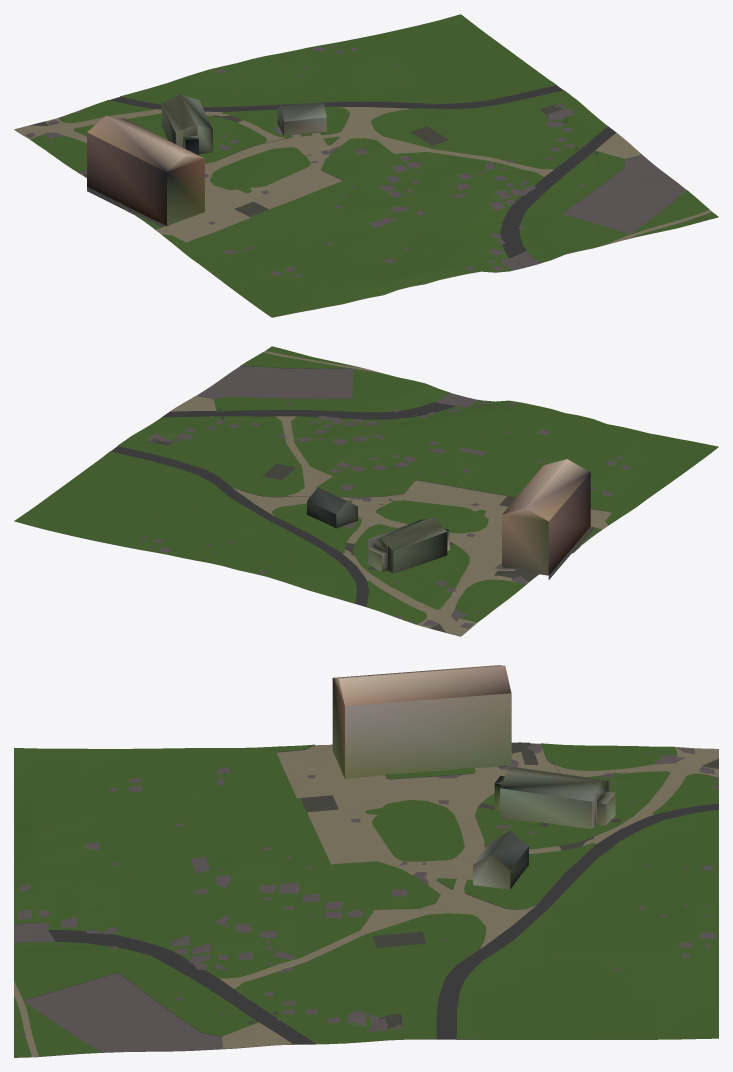
3 renders of one model, top to bottom at view 1: azimuth 30°, elevation 25°; view 2: azimuth 150°, elevation 25°; view 3: azimuth 270°, elevation 25°, orthographic. The views are drawn at different scales.
Visible parts, largest first — view 1: c_m17_p02; view 2: c_m17_p02; view 3: c_m17_p02.
Boxes of the visible parts, x1,y1,x2,y2 form: c_m17_p02: [14, 14, 718, 317]; c_m17_p02: [14, 346, 718, 636]; c_m17_p02: [14, 665, 718, 1057].
Bounding box in the file's own units: 130 × 21.57 × 128.
